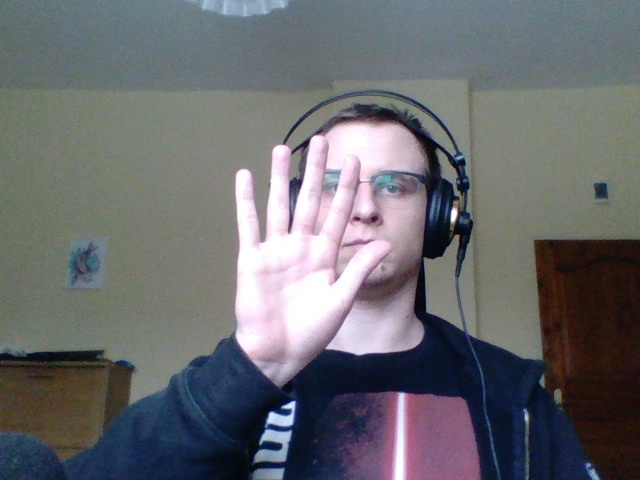hello: (227, 136, 390, 405)
